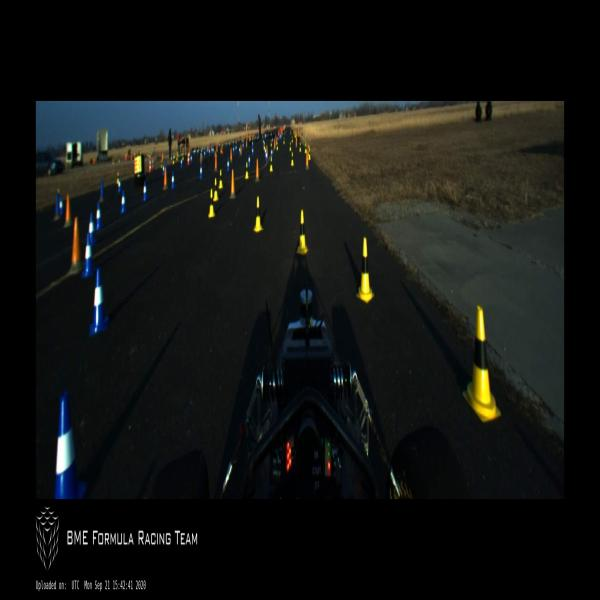blue_cone: (55, 392, 86, 499), (89, 268, 109, 338), (82, 232, 95, 277), (89, 212, 96, 244), (96, 201, 102, 231), (120, 190, 127, 214), (142, 180, 148, 202), (59, 196, 64, 216), (171, 173, 175, 189), (226, 158, 230, 172), (118, 178, 121, 193), (248, 154, 251, 166), (200, 163, 202, 180), (270, 148, 273, 158), (265, 151, 267, 162)
large_orange_cone: (152, 156, 155, 172), (187, 150, 189, 166), (149, 157, 151, 172), (189, 150, 191, 164)
unknown_cone: (462, 305, 502, 422), (70, 217, 82, 272), (65, 194, 71, 225), (230, 170, 235, 199), (163, 167, 168, 190), (214, 153, 218, 172), (256, 158, 259, 182), (306, 150, 309, 169)
yellow_cone: (356, 236, 375, 303), (296, 209, 308, 253), (253, 196, 263, 230), (208, 188, 215, 217), (212, 178, 219, 202), (219, 169, 224, 189), (245, 161, 249, 179), (270, 156, 274, 172), (291, 151, 294, 166), (308, 148, 311, 160), (299, 141, 302, 153), (116, 172, 119, 184), (304, 143, 306, 154), (290, 143, 292, 151), (276, 143, 278, 151)
